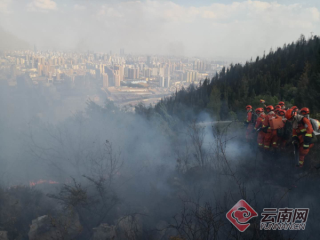smoke: (39, 85, 158, 219), (160, 100, 245, 198)
